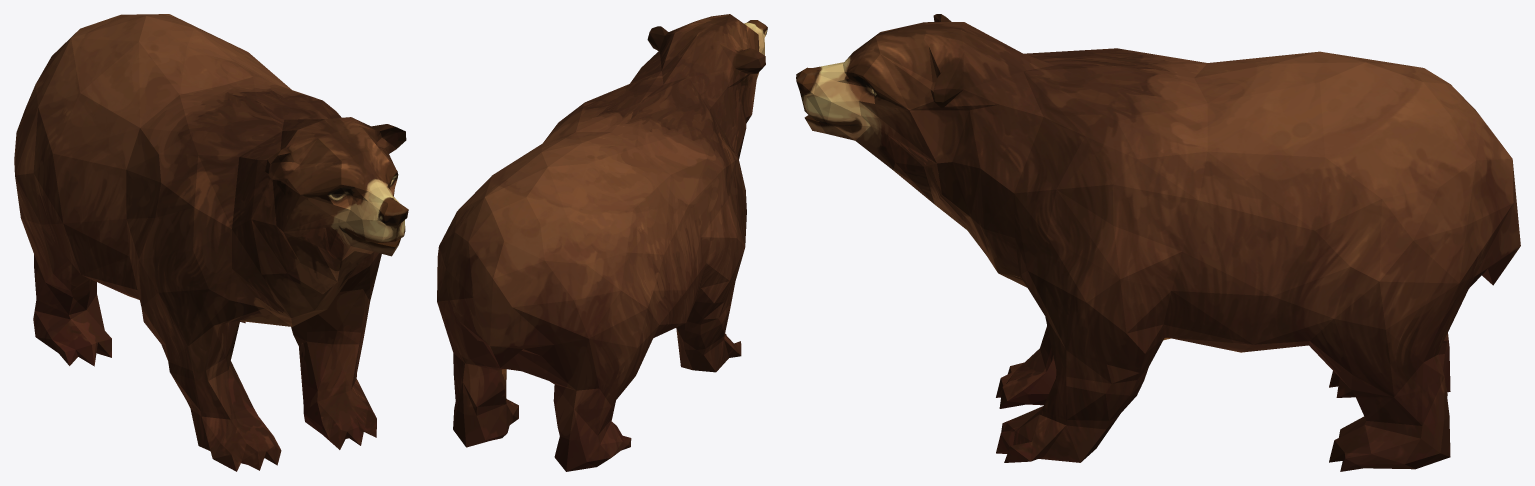
The model's file is PapaBear.FBX.
The picture shows the model from 3 angles, left to right: view 1: azimuth 30°, elevation 25°; view 2: azimuth 150°, elevation 25°; view 3: azimuth 270°, elevation 25°; orthographic projection. The views are drawn at different scales.
Parts seen in each view (by area): view 1: PapaBear; view 2: PapaBear; view 3: PapaBear.
Boxes of the visible parts, x1=… form: PapaBear: x1=14, y1=14, x2=408, y2=471; PapaBear: x1=437, y1=14, x2=767, y2=471; PapaBear: x1=796, y1=14, x2=1520, y2=471.
Bounding box in the file's own units: 136 × 182 × 303.
